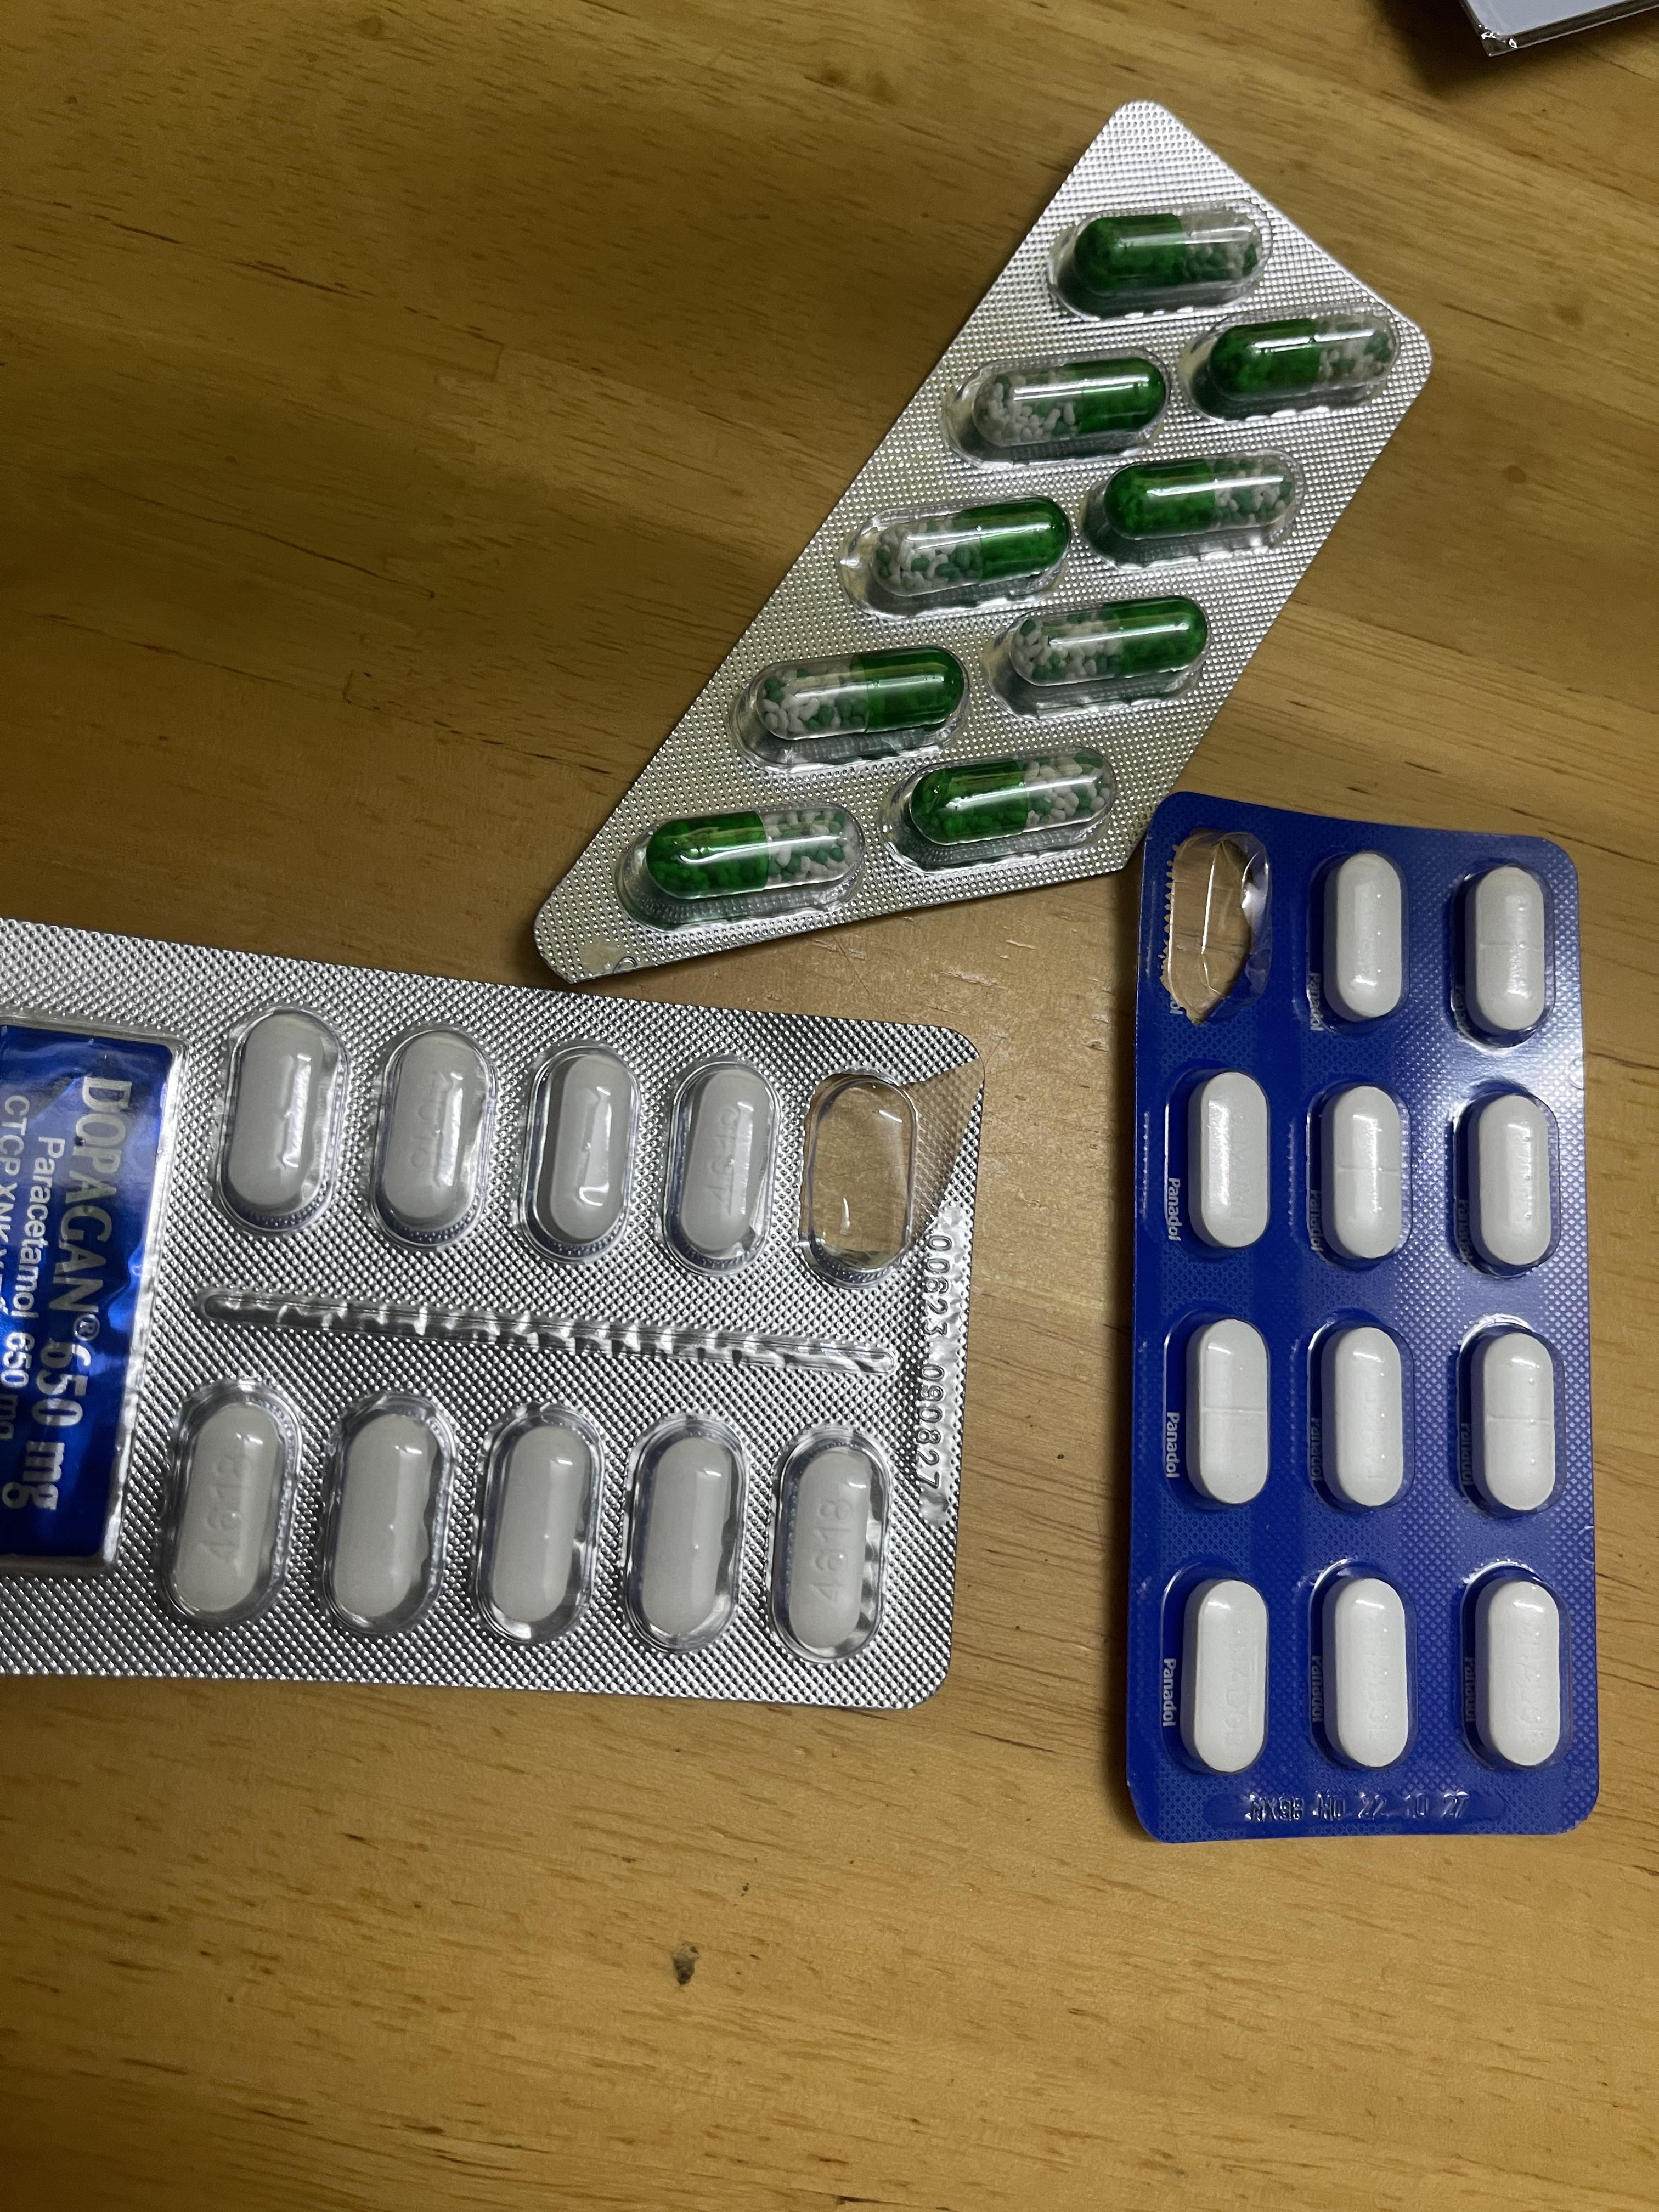Paracetamol_350mg: (1178, 1576, 1269, 1777), (1321, 1573, 1412, 1773), (1462, 1092, 1558, 1280), (1316, 1083, 1410, 1268), (1319, 1324, 1408, 1515), (1476, 1576, 1563, 1771), (1185, 1317, 1272, 1510), (1474, 1331, 1561, 1519), (1188, 1073, 1272, 1256), (1467, 866, 1551, 1042), (1321, 852, 1406, 1022)
Paracetamol_500mg: (159, 1381, 293, 1629), (321, 1395, 451, 1637), (626, 1416, 749, 1653), (214, 1007, 347, 1228), (364, 1028, 495, 1242), (483, 1409, 601, 1644), (774, 1432, 894, 1662), (521, 1045, 640, 1254), (662, 1061, 779, 1270)
Paracetamol_650mg: (908, 761, 1107, 850), (1012, 603, 1206, 693), (648, 812, 854, 895), (875, 505, 1061, 596), (756, 655, 957, 738), (1204, 320, 1387, 404), (1105, 463, 1290, 543), (974, 366, 1161, 444), (1073, 214, 1255, 294)
